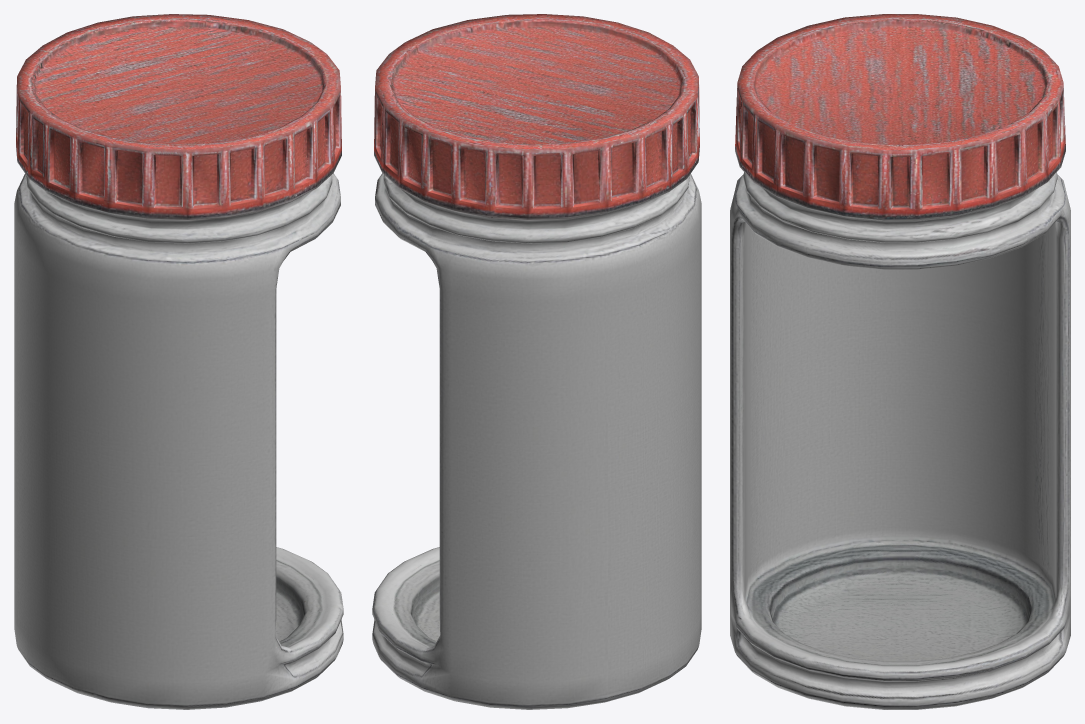
The model's file is SweetJarEmpty.fbx.
3 views of the same model, side by side, from view 1: azimuth 30°, elevation 25°; view 2: azimuth 150°, elevation 25°; view 3: azimuth 270°, elevation 25° (orthographic).
Parts seen in each view (by area): view 1: tripo_node_e9b12139-388d-468a-91a7-5a3d537d48d4; view 2: tripo_node_e9b12139-388d-468a-91a7-5a3d537d48d4; view 3: tripo_node_e9b12139-388d-468a-91a7-5a3d537d48d4.
Boxes of the visible parts, box(x1,y1,x2,y2) form: tripo_node_e9b12139-388d-468a-91a7-5a3d537d48d4: box(14, 14, 343, 709); tripo_node_e9b12139-388d-468a-91a7-5a3d537d48d4: box(372, 14, 701, 709); tripo_node_e9b12139-388d-468a-91a7-5a3d537d48d4: box(730, 14, 1070, 709).
Bounding box in the file's own units: 53.03 × 100 × 54.99.
1 material, 1 textured.
